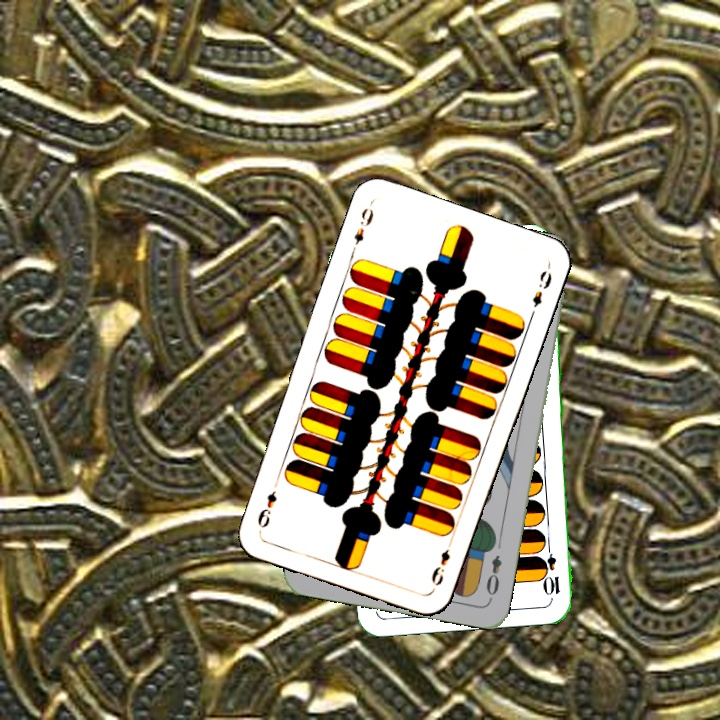E10: (541, 539, 563, 598)
E9: (427, 536, 455, 589), (350, 200, 377, 248)
EO: (482, 551, 505, 603)
